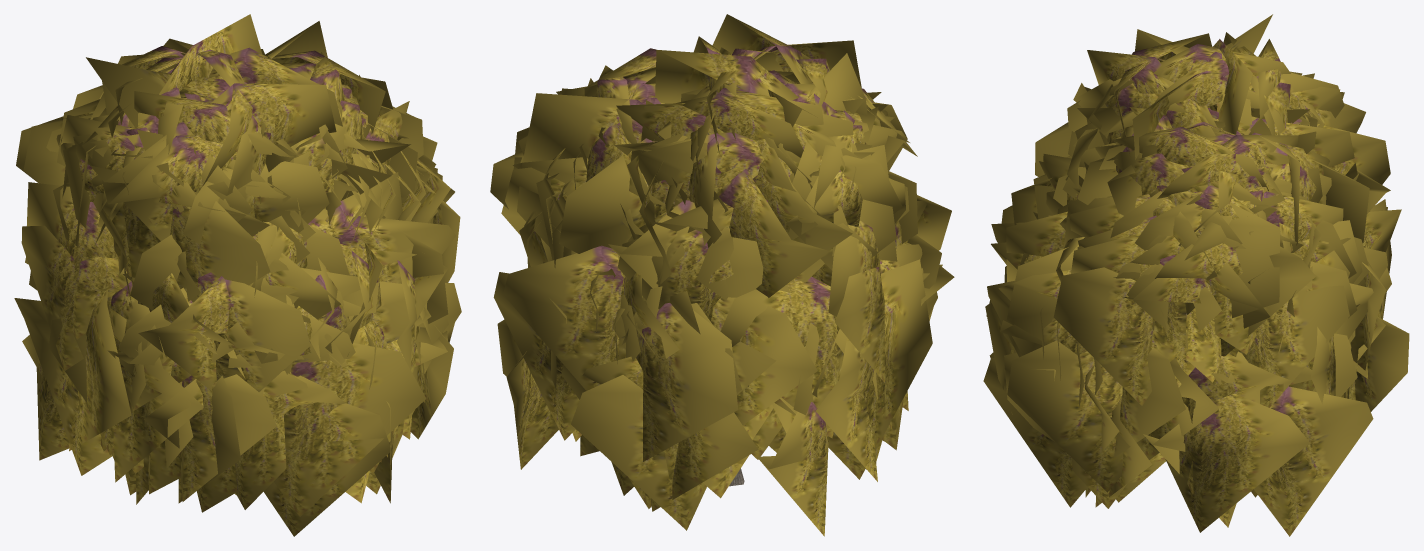
File: Salix_Alba_Autumn_Adult.glb
The picture shows the model from 3 angles, left to right: view 1: azimuth 30°, elevation 25°; view 2: azimuth 150°, elevation 25°; view 3: azimuth 270°, elevation 25°; orthographic projection. The views are drawn at different scales.
Visible parts, largest first — view 1: Salix_Alba_Autumn_Adult__LOD3; view 2: Salix_Alba_Autumn_Adult__LOD3; view 3: Salix_Alba_Autumn_Adult__LOD3.
Part boxes in pixels (bbox=[...]): Salix_Alba_Autumn_Adult__LOD3: bbox=[14, 14, 461, 536]; Salix_Alba_Autumn_Adult__LOD3: bbox=[490, 14, 954, 536]; Salix_Alba_Autumn_Adult__LOD3: bbox=[983, 14, 1409, 536].
Bounding box in the file's own units: 18.94 × 22.31 × 20.65.
Materials: 2 (2 with a texture image).
